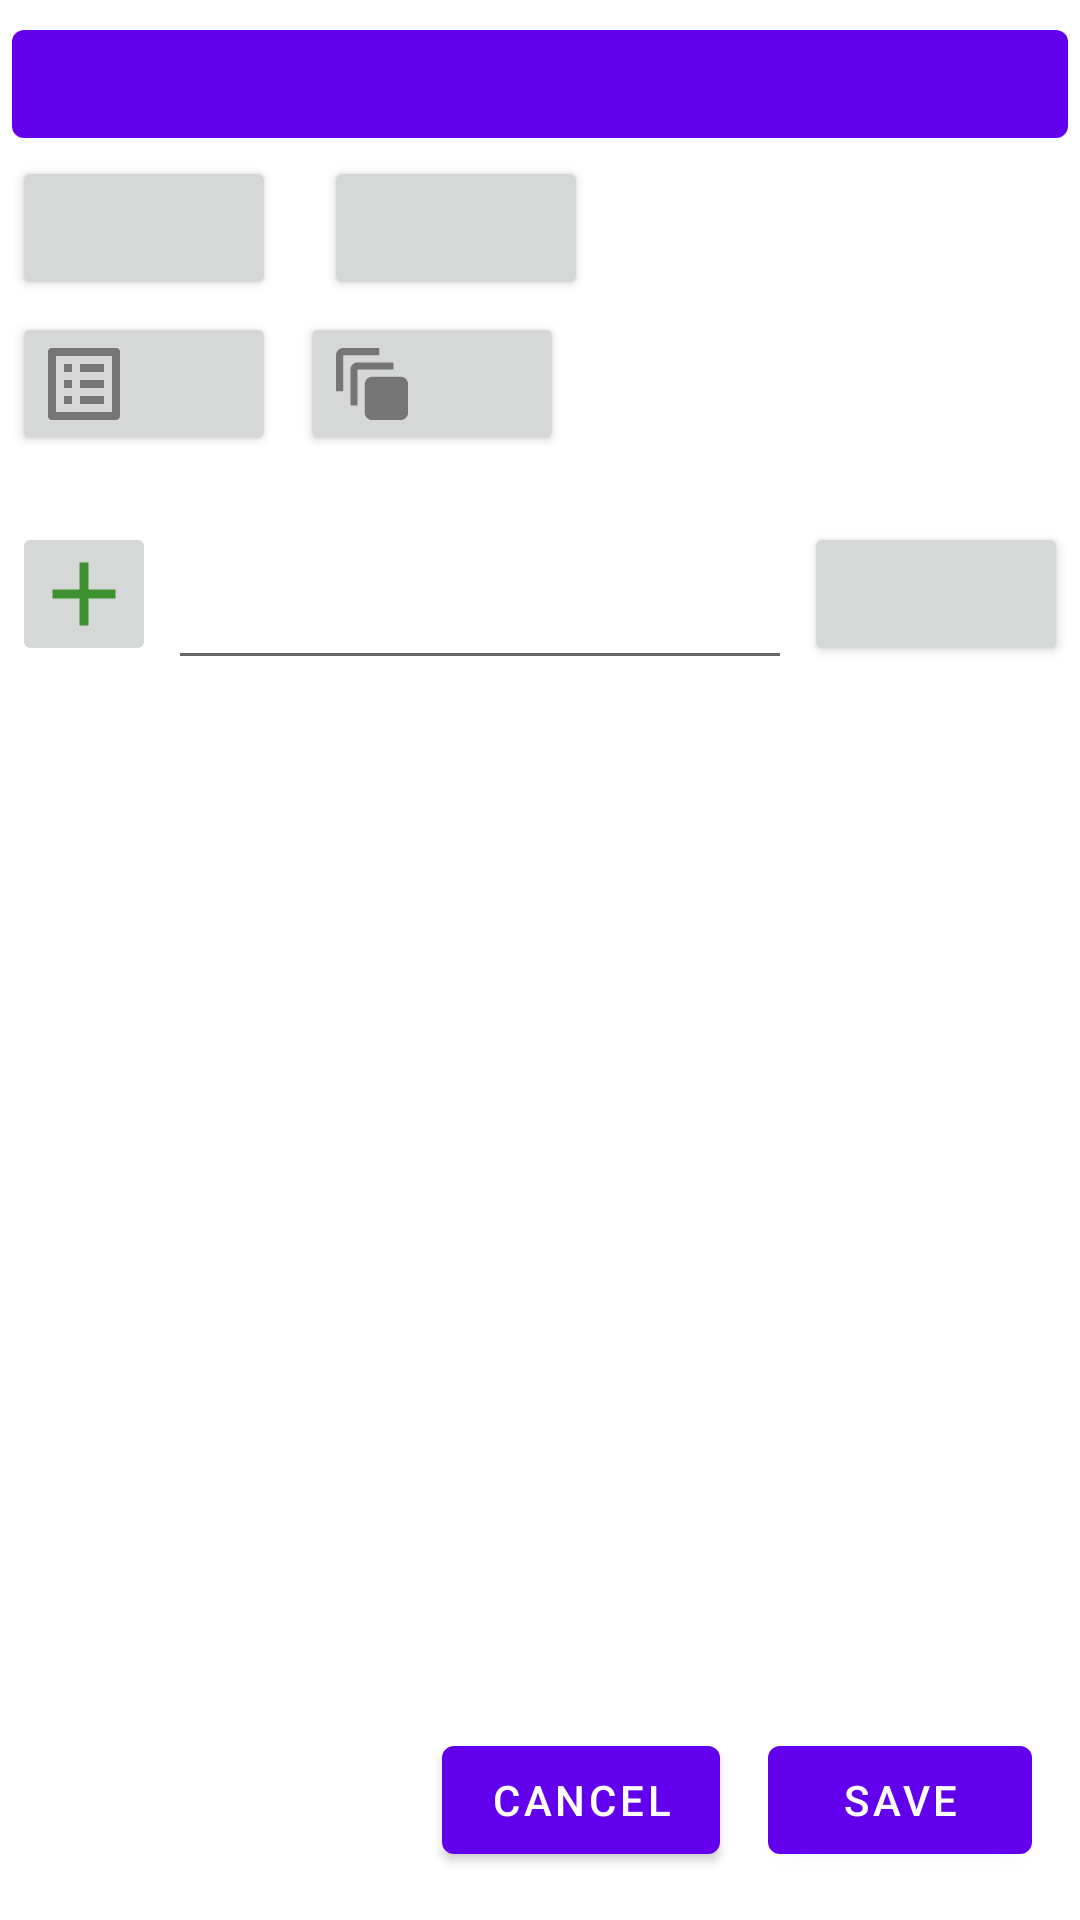

Locate icon controls on the screen. Image size 1080 × 1920, boxes as {"x1": x1, "y1": y1, "x2": x2, "y2": y2}.
income: {"x1": 24, "y1": 540, "x2": 144, "y2": 648}
